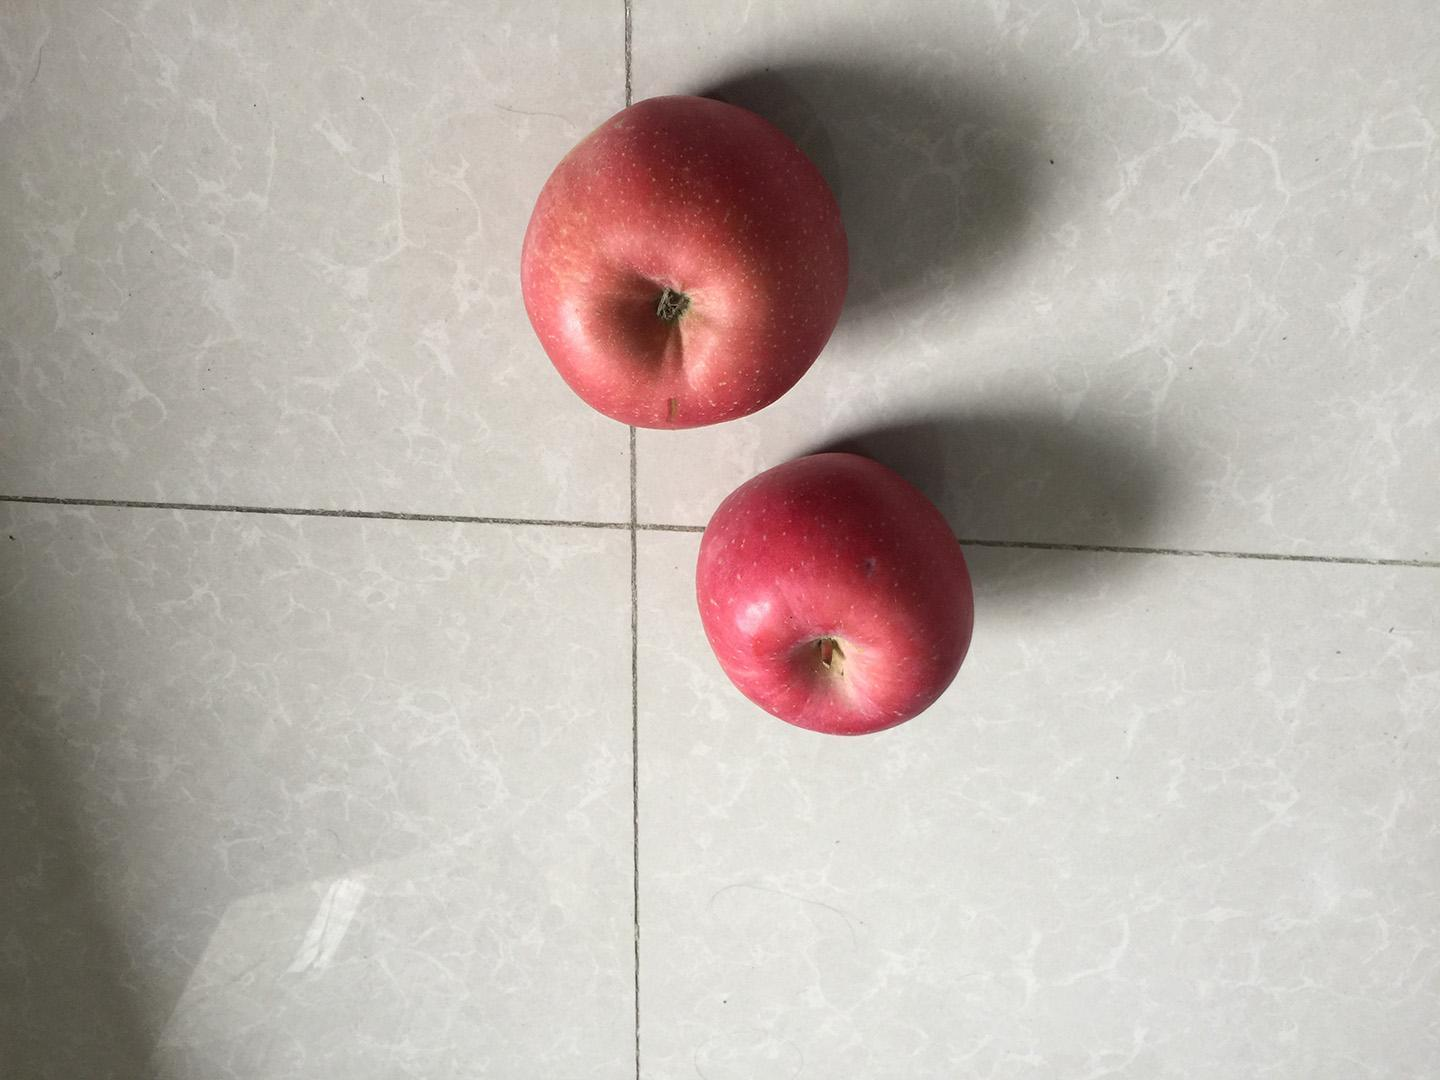apple: (513, 87, 857, 434), (688, 446, 983, 740)
